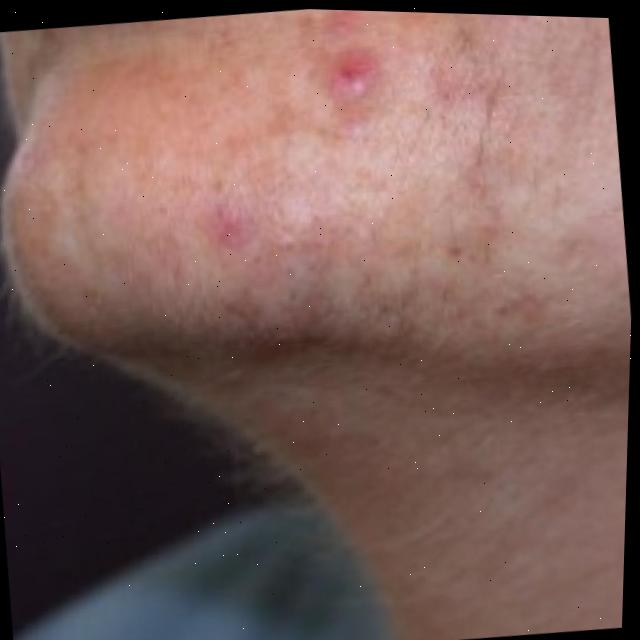Acne: (166, 13, 564, 353)
